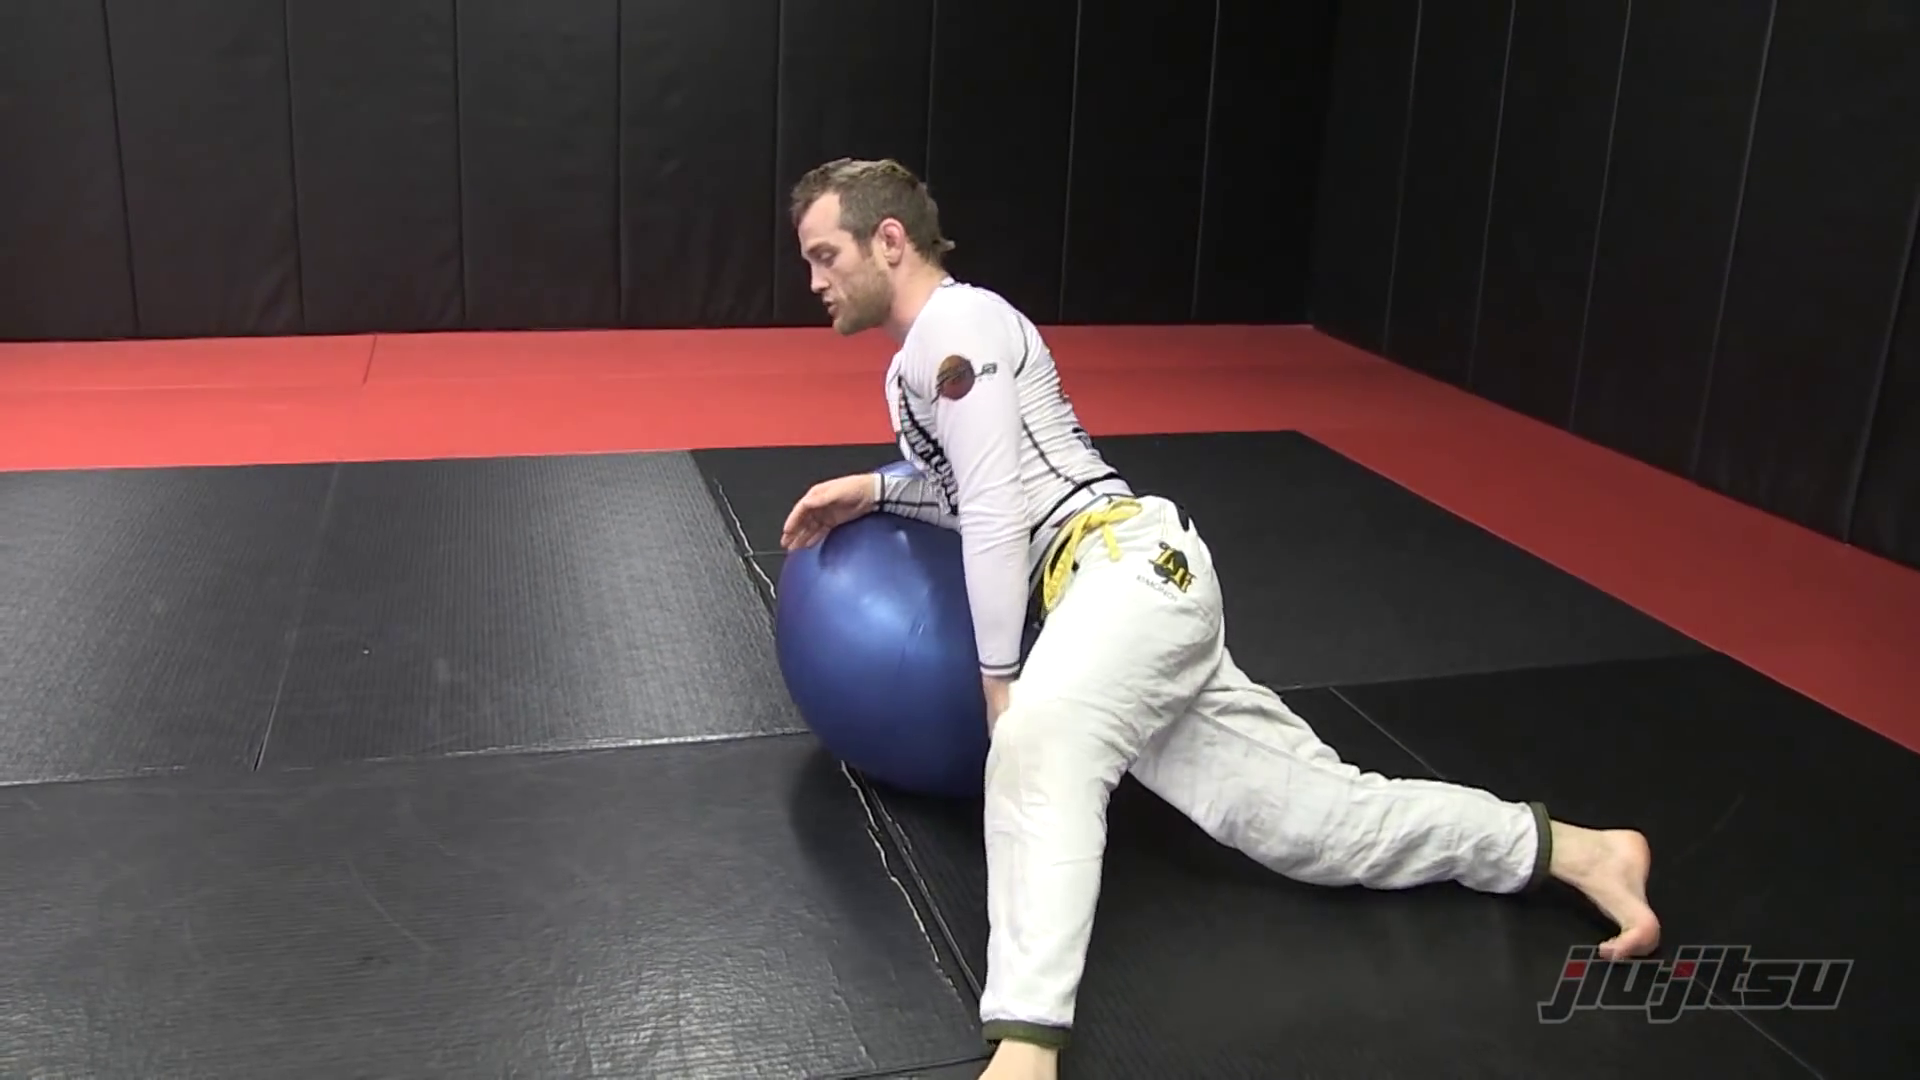yogaball: (746, 477, 1060, 819)
